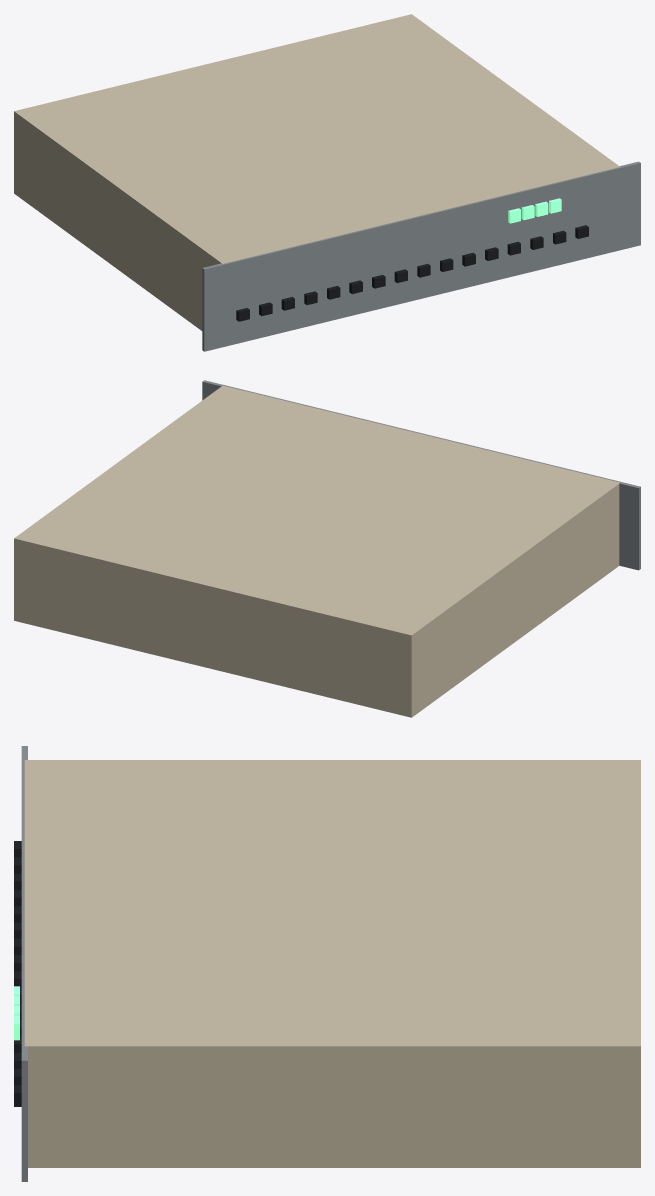
The model's file is terminal-server-16.glb.
3 renders of one model, top to bottom at view 1: azimuth 30°, elevation 25°; view 2: azimuth 150°, elevation 25°; view 3: azimuth 270°, elevation 25°, orthographic. The views are drawn at different scales.
Parts seen in each view (by area): view 1: kit-terminal-server-16; view 2: kit-terminal-server-16; view 3: kit-terminal-server-16.
Part boxes in pixels (x1,y1,x2,y2): kit-terminal-server-16: (14, 14, 640, 351); kit-terminal-server-16: (14, 380, 640, 717); kit-terminal-server-16: (21, 746, 640, 1181).
Bounding box in the file's own units: 0.483 × 0.087 × 0.407.
